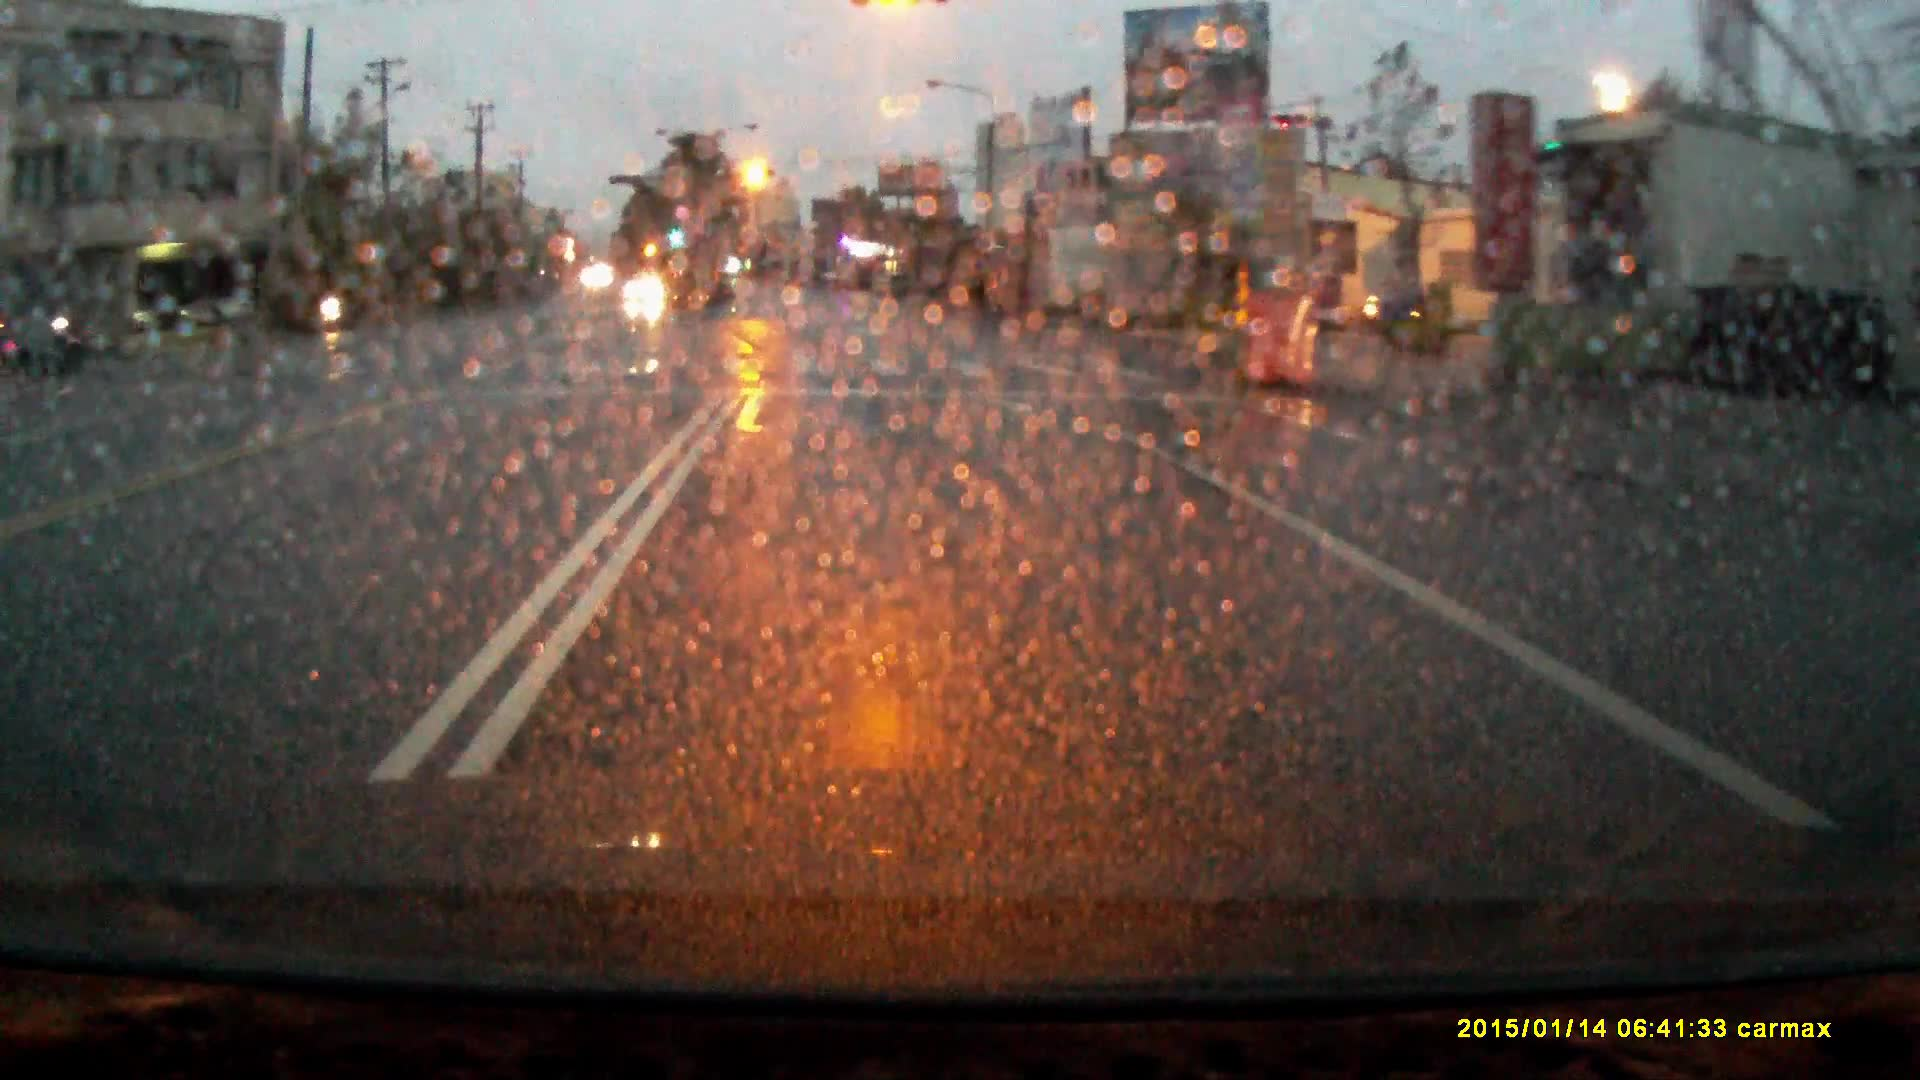rider: (317, 264, 350, 340)
vehicle: (625, 276, 667, 305)
